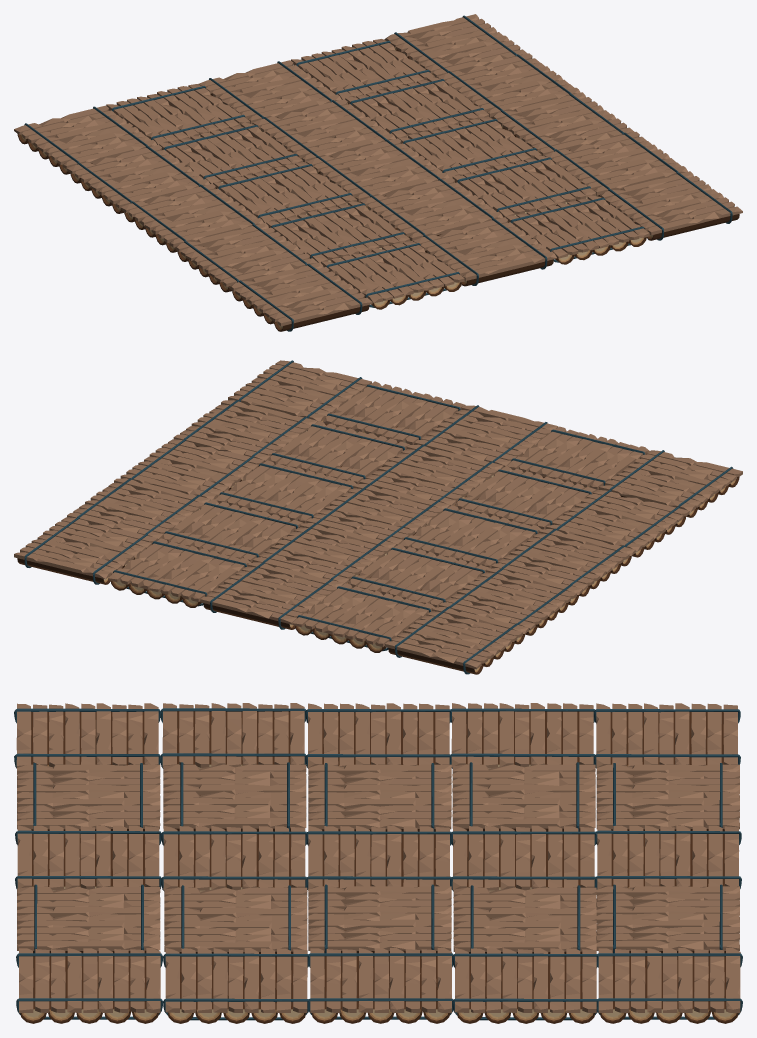
File: StorePlatform.fbx
3 renders of one model, top to bottom at view 1: azimuth 30°, elevation 25°; view 2: azimuth 150°, elevation 25°; view 3: azimuth 270°, elevation 25°, orthographic. The views are drawn at different scales.
Visible parts, largest first — view 1: Platform.023, Platform.021, Platform.024, Platform.022, Platform.020, Platform.008, Platform.013, Platform.018, Platform.006, Platform.003, Platform.007, Platform.004 (+13 smaller); view 2: Platform.018, Platform.017, Platform.016, Platform.019, Platform.015, Platform.023, Platform.013, Platform.008, Platform.006, Platform.021, Platform.022, Platform.024 (+13 smaller); view 3: Platform.009, Platform.014, Platform.024, Platform.019, Platform.007, Platform.001, Platform.016, Platform.002, Platform.012, Platform.005, Platform.017, Platform.022 (+13 smaller).
Boxes of the visible parts, bbox=[...] form: Platform.023: bbox=[228, 262, 372, 331]; Platform.021: bbox=[505, 195, 649, 264]; Platform.024: bbox=[599, 171, 742, 240]; Platform.022: bbox=[321, 241, 464, 309]; Platform.020: bbox=[413, 217, 556, 286]; Platform.008: bbox=[174, 223, 317, 292]; Platform.013: bbox=[67, 145, 209, 213]; Platform.018: bbox=[14, 105, 156, 174]; Platform.006: bbox=[120, 183, 263, 252]; Platform.003: bbox=[452, 155, 596, 222]; Platform.007: bbox=[491, 92, 634, 156]; Platform.004: bbox=[359, 177, 503, 241]; Platform.018: bbox=[385, 606, 528, 674]; Platform.017: bbox=[292, 583, 434, 652]; Platform.016: bbox=[108, 538, 250, 607]; Platform.019: bbox=[14, 517, 157, 584]; Platform.015: bbox=[200, 562, 344, 629]; Platform.023: bbox=[599, 450, 742, 517]; Platform.013: bbox=[439, 567, 582, 635]; Platform.008: bbox=[545, 489, 689, 557]; Platform.006: bbox=[491, 528, 635, 596]; Platform.021: bbox=[323, 381, 465, 444]; Platform.022: bbox=[507, 426, 649, 489]; Platform.024: bbox=[228, 360, 371, 421]; Platform.009: bbox=[163, 948, 310, 1023]; Platform.014: bbox=[452, 948, 599, 1023]; Platform.024: bbox=[16, 948, 163, 1023]; Platform.019: bbox=[597, 948, 742, 1023]; Platform.007: bbox=[308, 948, 453, 1023]; Platform.001: bbox=[308, 884, 451, 953]; Platform.016: bbox=[596, 884, 739, 953]; Platform.002: bbox=[308, 763, 451, 831]; Platform.012: bbox=[452, 762, 595, 831]; Platform.005: bbox=[163, 762, 306, 831]; Platform.017: bbox=[596, 763, 739, 831]; Platform.022: bbox=[17, 763, 160, 831].
Size of the model in its own units: 2003 by 64.95 by 2020.
